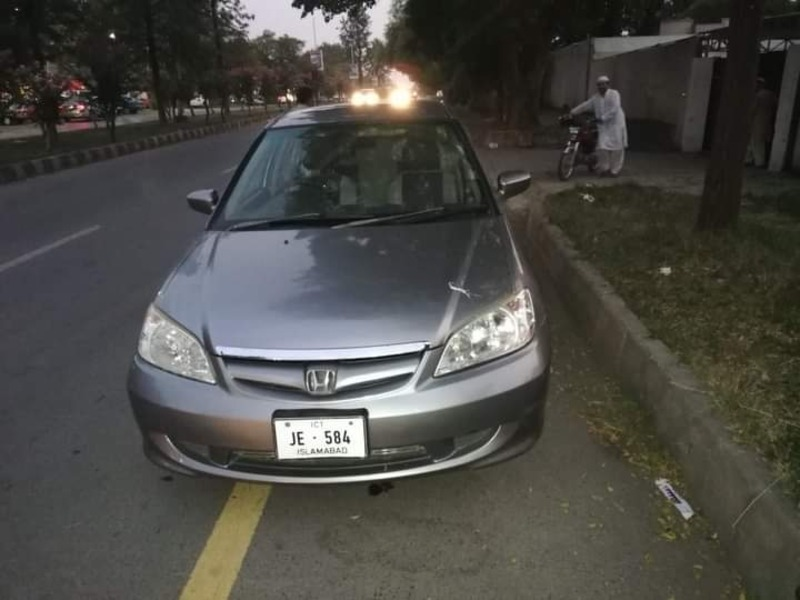License Plate: (269, 407, 373, 466)
